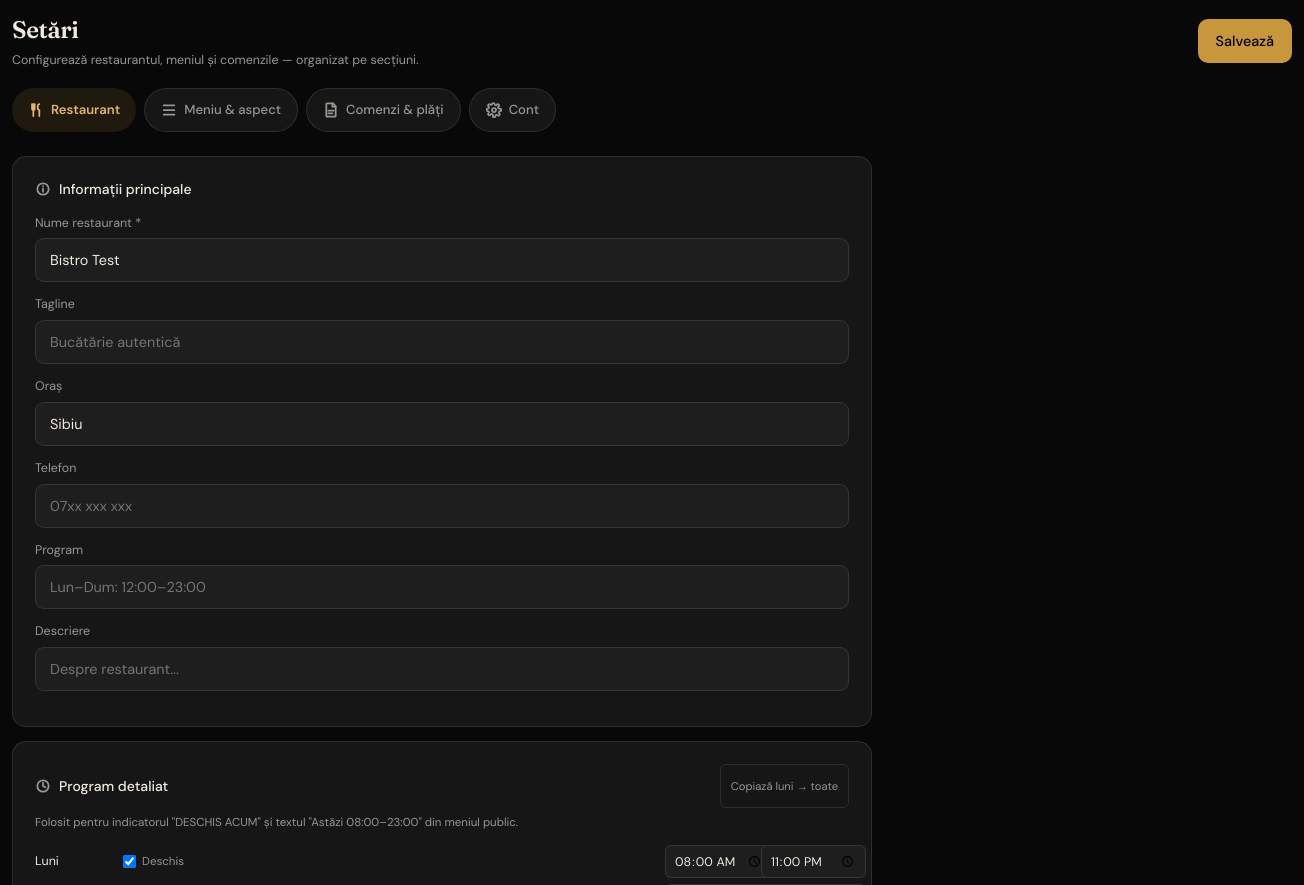
Test case: SettingsTab — ridicarea pe planul restaurantului › PS3: pornită pe un plan fără ridicare — se poate doar opri, cu avertisment
The image size is (1304, 885).
Click the tab "Comenzi & plăți": (383, 110) [306,88,461,132]
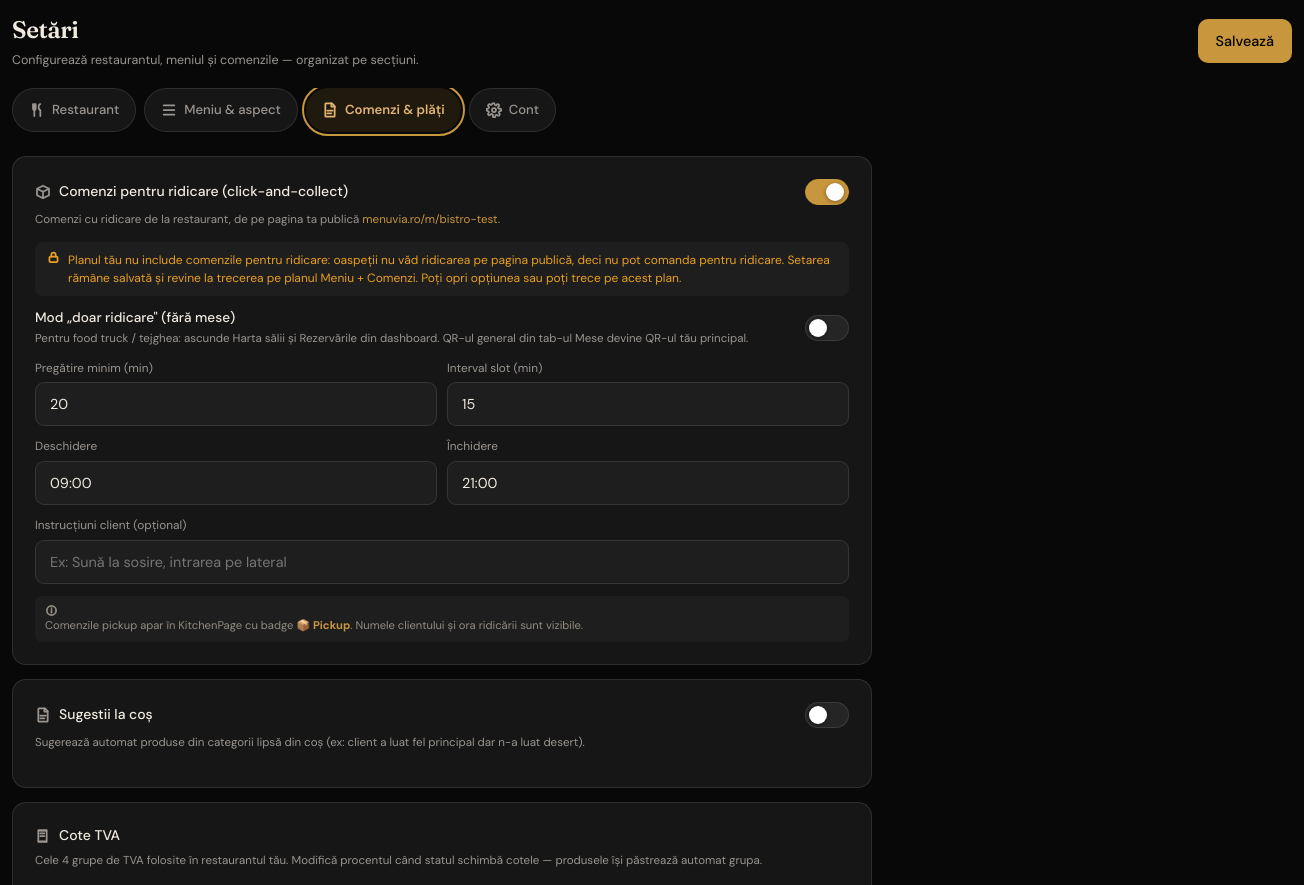
Expected: the text "Planul tău nu include comenzile pentru ridicare" is shown once, [68,251,837,287]
Now the switch named "Comenzi pentru ridicare" is enabled
Now the text "Setarea rămâne salvată" is shown, box [68,252,830,286]
Click the switch named "Comenzi pentru ridicare": (827, 192) [805,179,849,205]
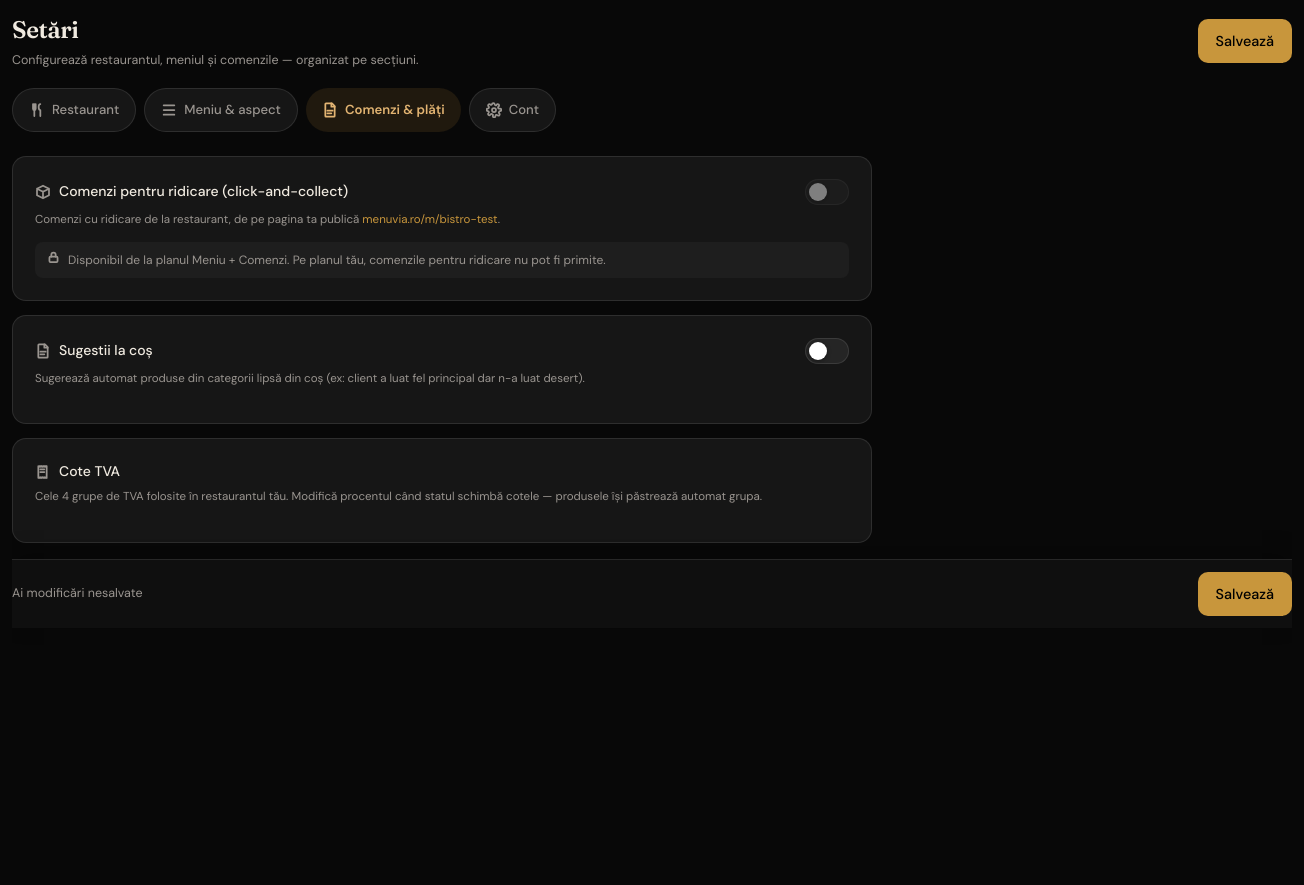
Now the switch named "Comenzi pentru ridicare" is disabled, box [805,179,849,205]
Now the text "Disponibil de la planul Meniu + Comenzi" is shown, box [68,252,606,268]
